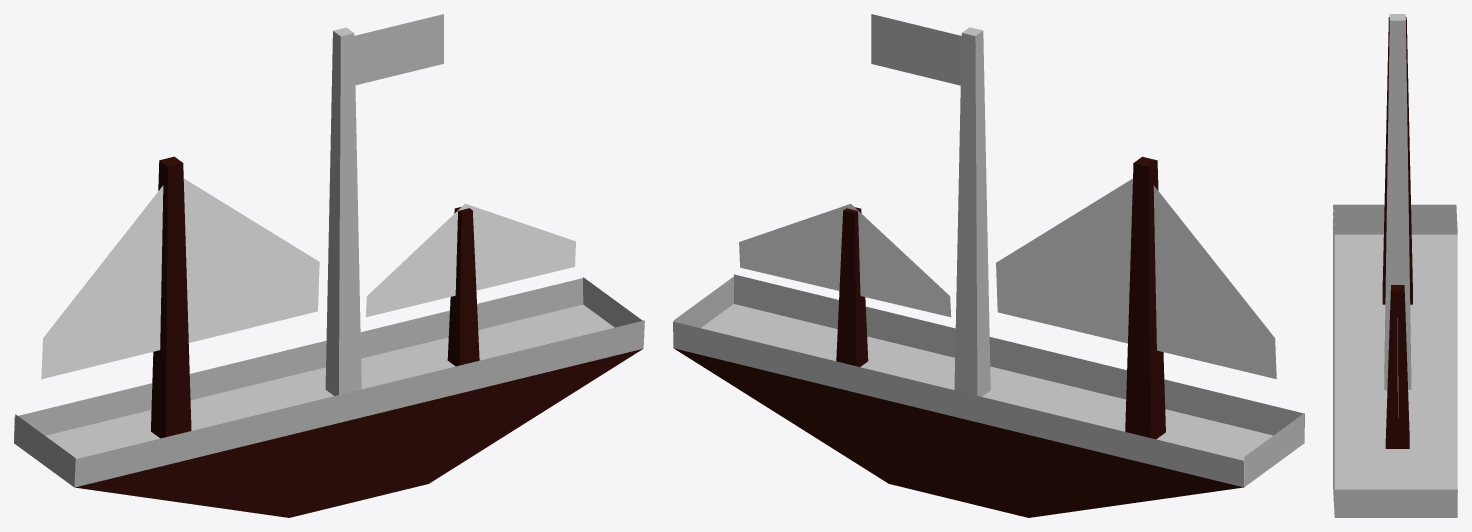
File: warship1.obj
3 renders of one model, left to right at view 1: azimuth 30°, elevation 25°; view 2: azimuth 150°, elevation 25°; view 3: azimuth 270°, elevation 25°, orthographic.
Parts seen in each view (by area): view 1: Cube, Plane.001, Cube.003, Plane, Cube.002, Plane.002, Cube.001; view 2: Cube, Plane.001, Cube.003, Plane, Cube.002, Plane.002, Cube.001; view 3: Cube, Cube.003, Cube.001, Cube.002.
Boxes of the visible parts, box(x1,y1,x2,y2) form: Cube: box(14, 277, 644, 517); Plane.001: box(41, 178, 319, 379); Cube.003: box(325, 27, 361, 395); Plane: box(365, 203, 575, 317); Cube.002: box(151, 156, 191, 438); Plane.002: box(354, 14, 443, 85); Cube.001: box(447, 207, 479, 366); Cube: box(673, 274, 1304, 517); Plane.001: box(996, 178, 1276, 379); Cube.003: box(954, 27, 990, 396); Plane: box(739, 204, 951, 317); Cube.002: box(1125, 156, 1165, 439); Plane.002: box(871, 14, 961, 85); Cube.001: box(836, 207, 868, 366); Cube: box(1333, 204, 1457, 517); Cube.003: box(1384, 14, 1411, 389); Cube.001: box(1385, 285, 1409, 448); Cube.002: box(1382, 17, 1412, 304).
Size of the model in its own units: 14.46 by 10.68 by 2.68.
